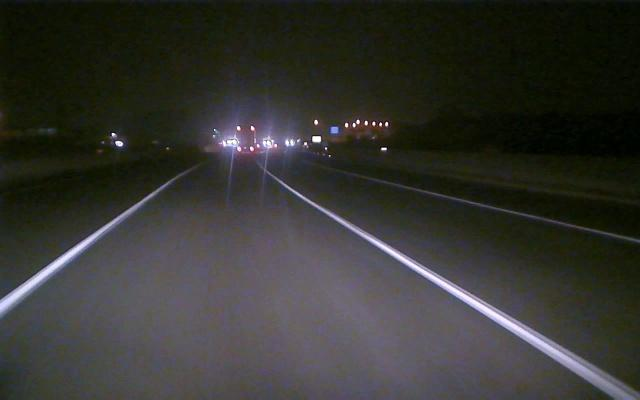lane: (284, 182, 635, 399), (3, 181, 172, 314), (361, 176, 640, 245)
